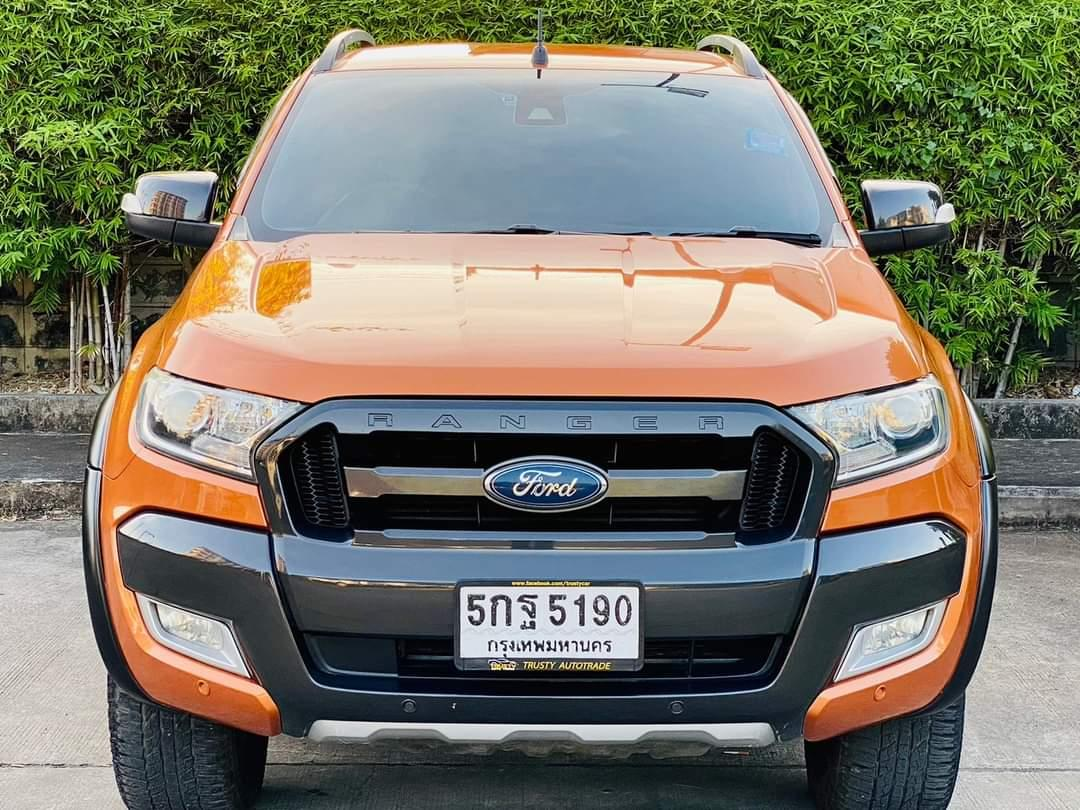license-plate: (454, 575, 650, 682)
